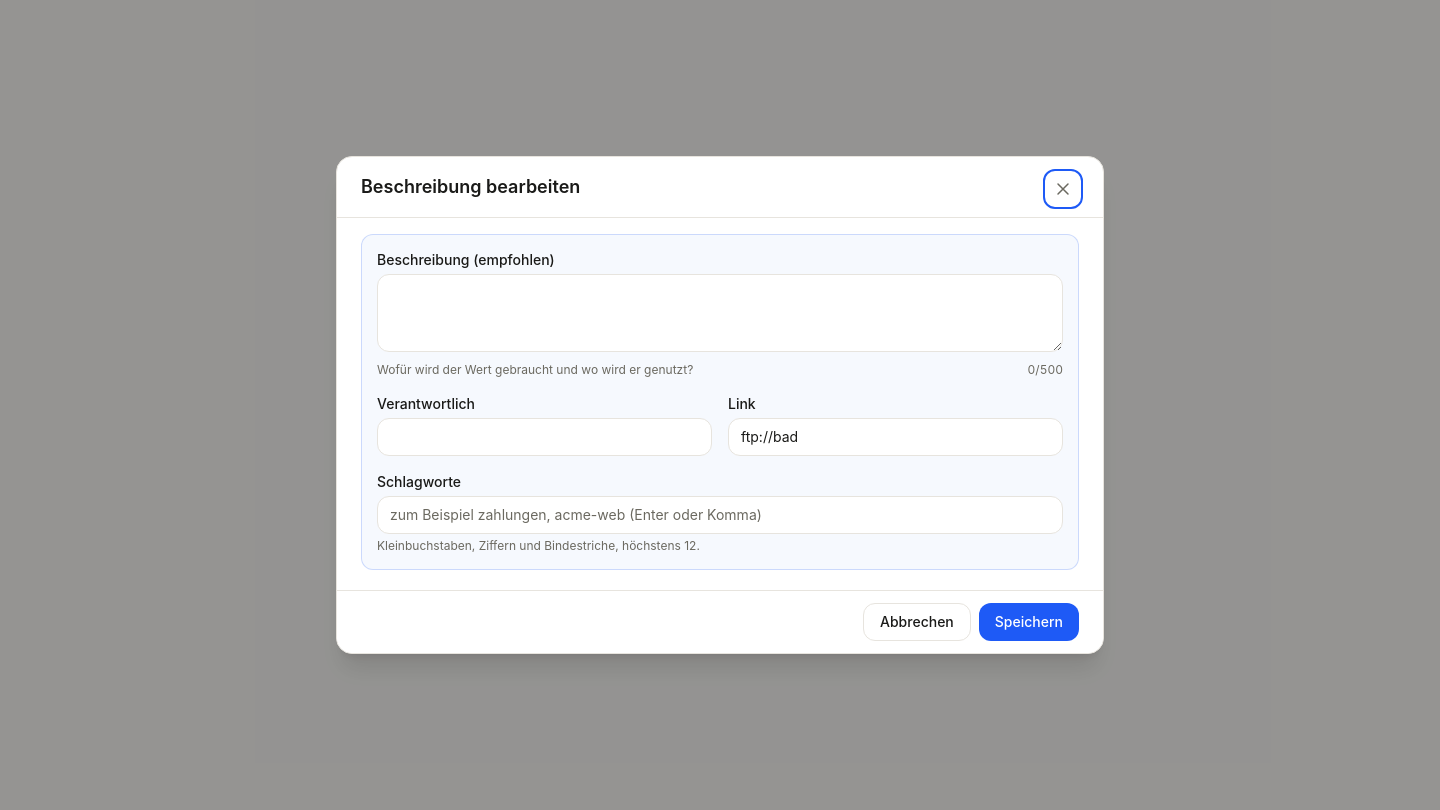
Test: EditMetaDialog › shows validation errors without calling the portal and the server error otherwise
Click the button "Speichern": (1029, 622) [979, 603, 1079, 641]
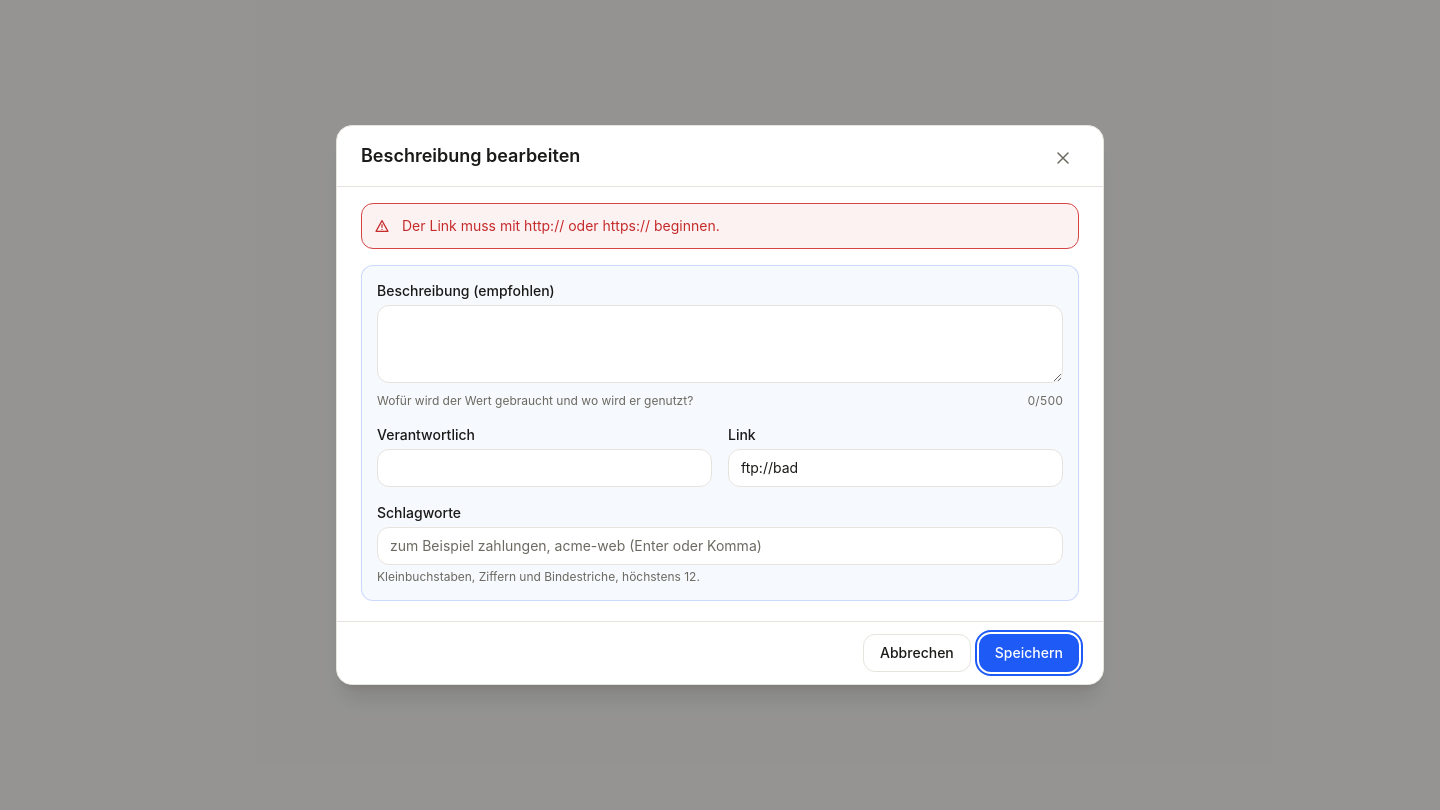
Result: the message reads "Der Link muss mit http:// oder https:// beginnen." at [402, 217, 720, 234]
Clear the field labelled "Link": (896, 468) [728, 449, 1063, 487]
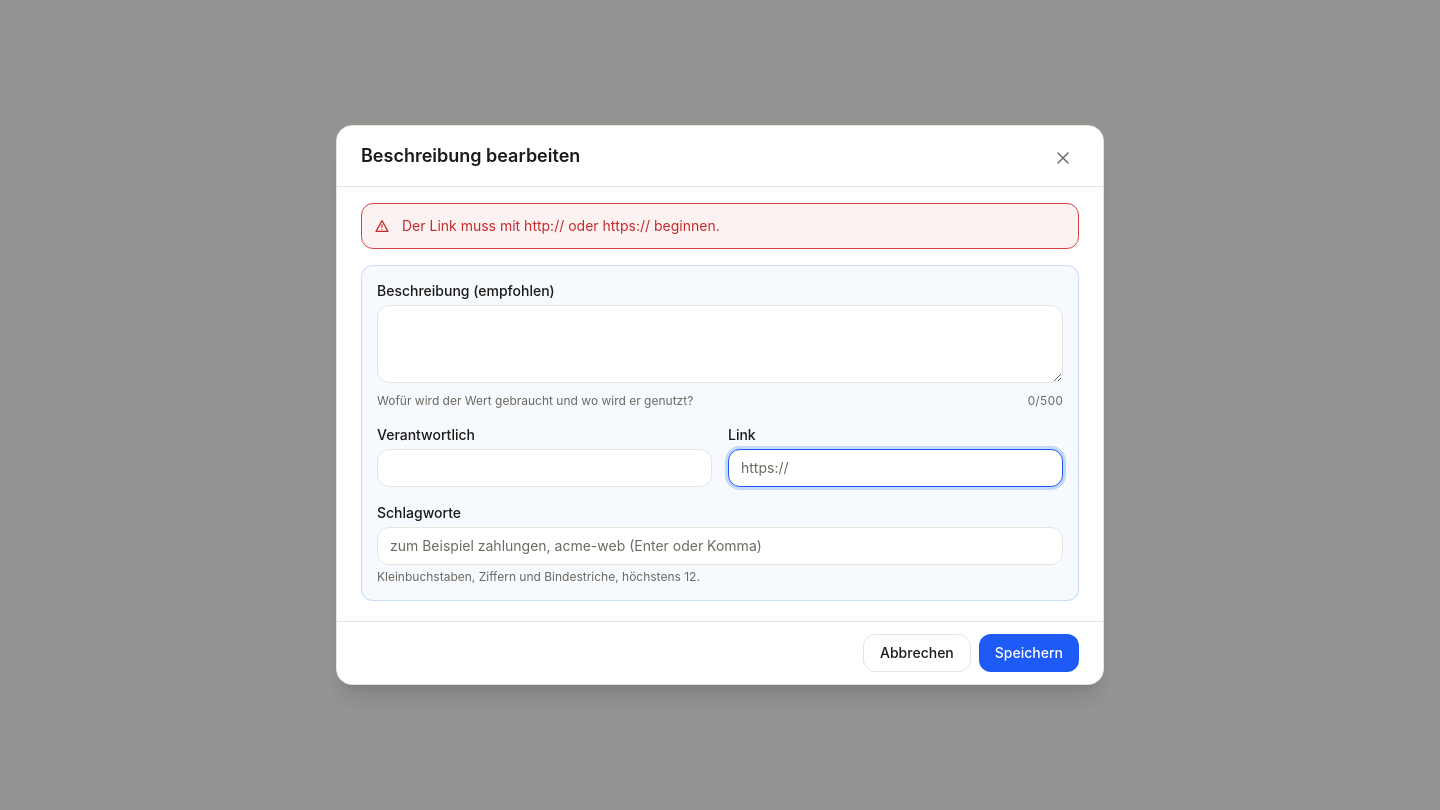
Click the button "Speichern": (1029, 653) [979, 634, 1079, 672]
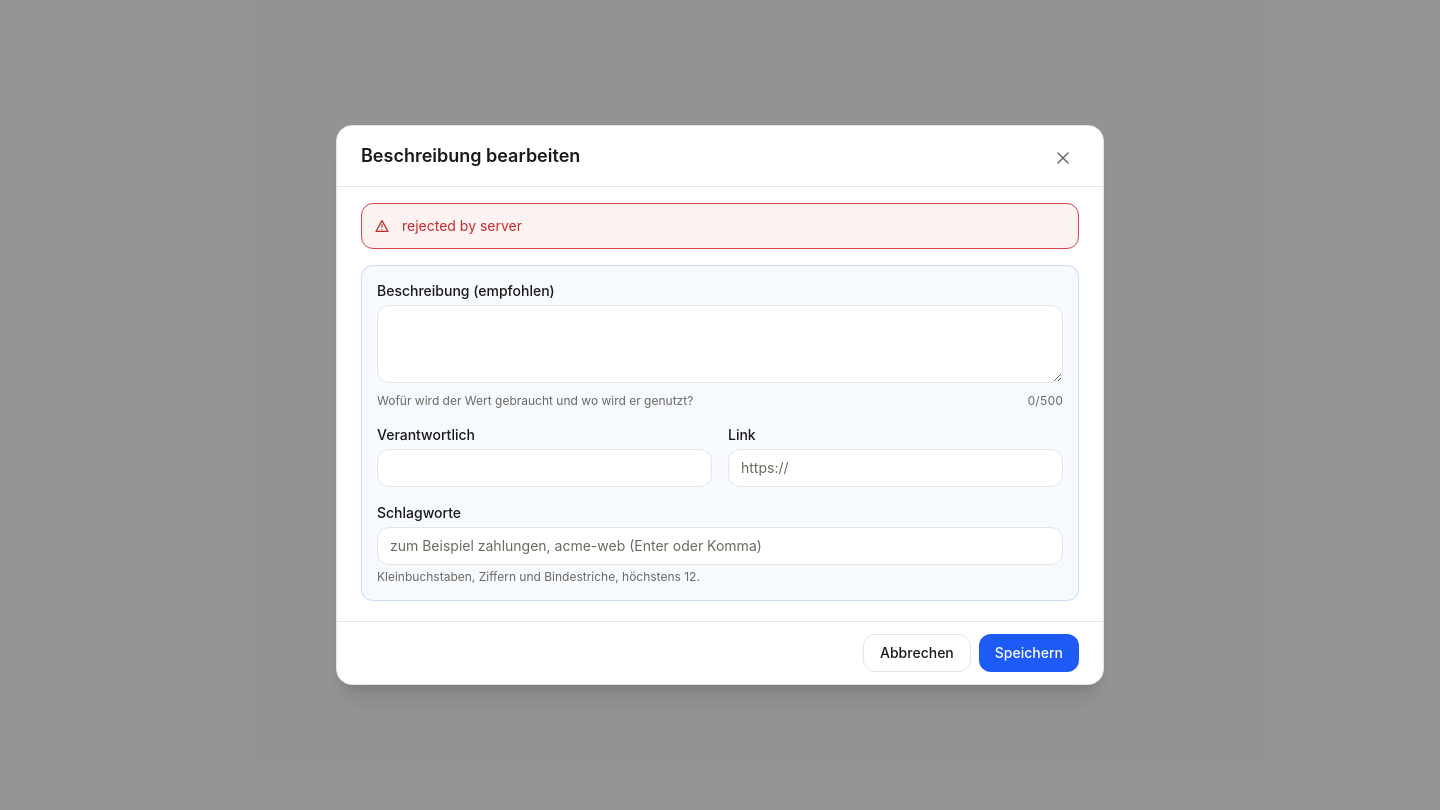
Result: the message reads "rejected by server" at [402, 217, 522, 234]
